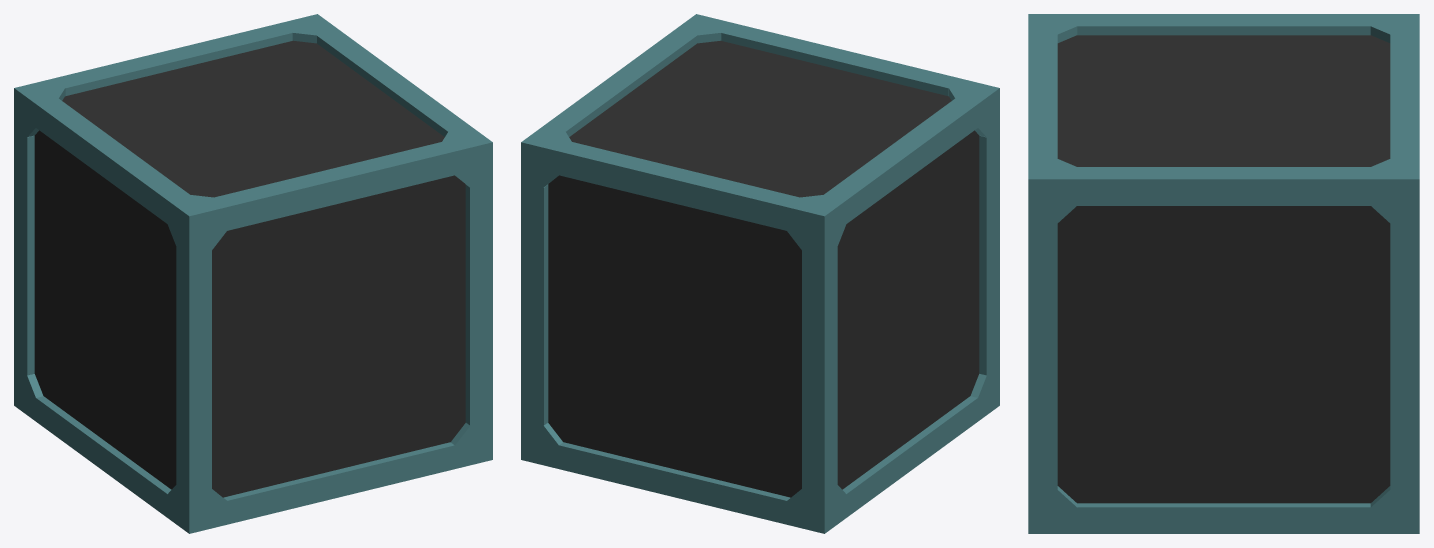
The picture shows the model from 3 angles, left to right: view 1: azimuth 30°, elevation 25°; view 2: azimuth 150°, elevation 25°; view 3: azimuth 270°, elevation 25°; orthographic projection. The views are drawn at different scales.
Visible parts, largest first — view 1: pCube2; view 2: pCube2; view 3: pCube2.
Part boxes in pixels (x1=…): pCube2: x1=14, y1=14, x2=492, y2=533; pCube2: x1=521, y1=14, x2=999, y2=533; pCube2: x1=1028, y1=14, x2=1419, y2=533.
Bounding box in the file's own units: 1 × 1 × 1.
